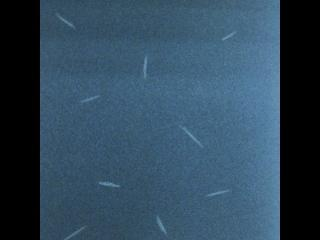scratch: (175, 121, 207, 152), (53, 8, 79, 35), (74, 91, 106, 107), (138, 52, 153, 83), (201, 185, 232, 200), (64, 222, 89, 240), (151, 213, 170, 236), (94, 177, 124, 191), (219, 28, 238, 44)
